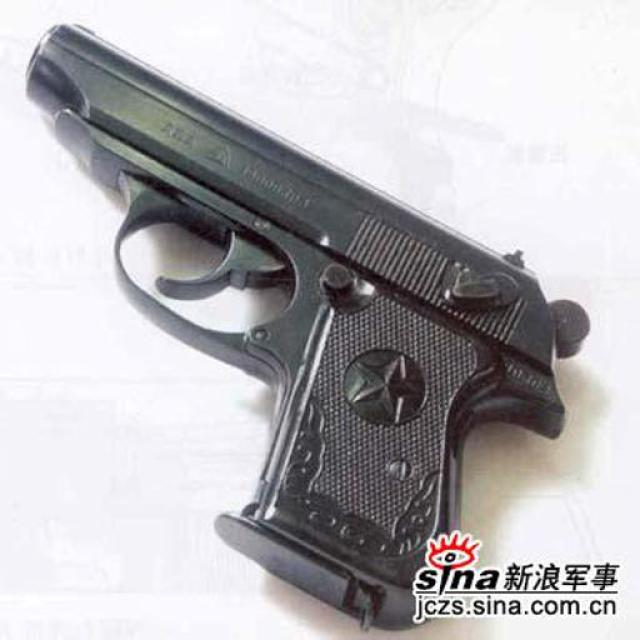pistol: (20, 23, 590, 628)
